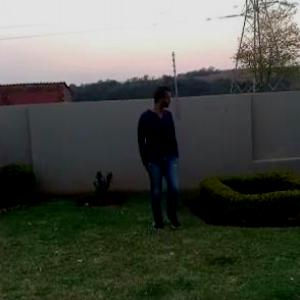follow: (140, 81, 188, 247)
